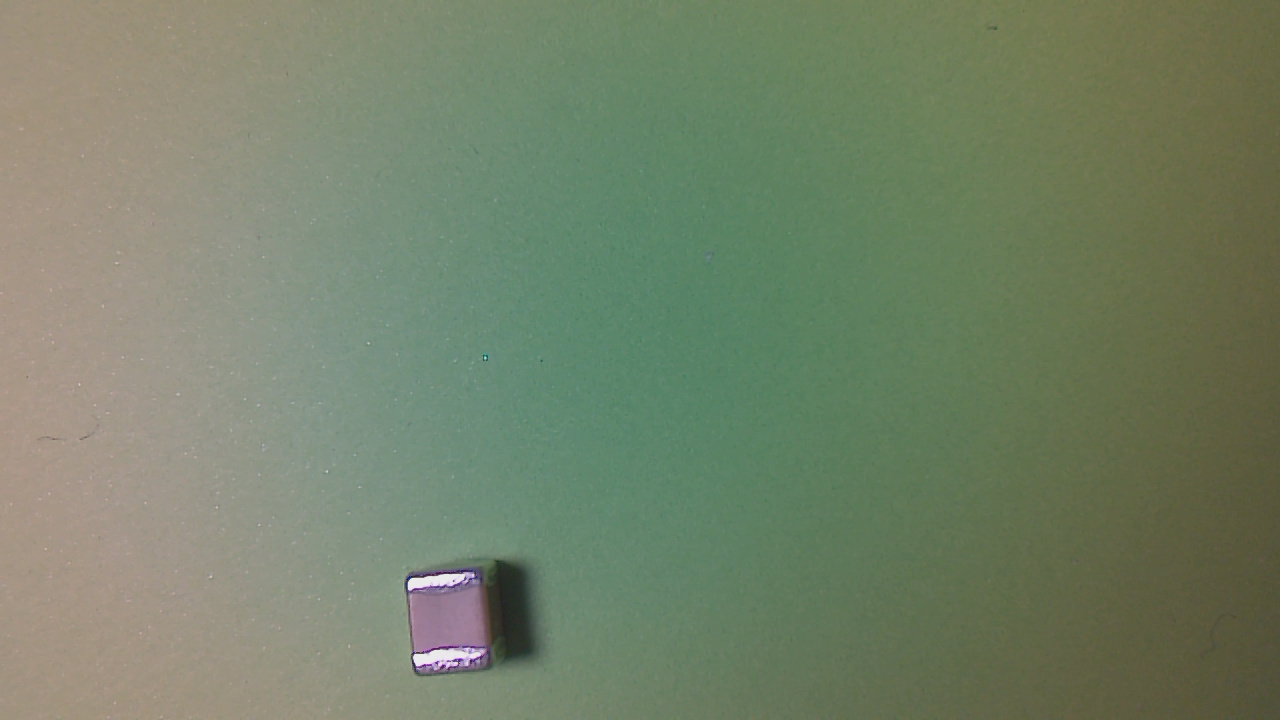Condensator: (406, 566, 500, 686)
